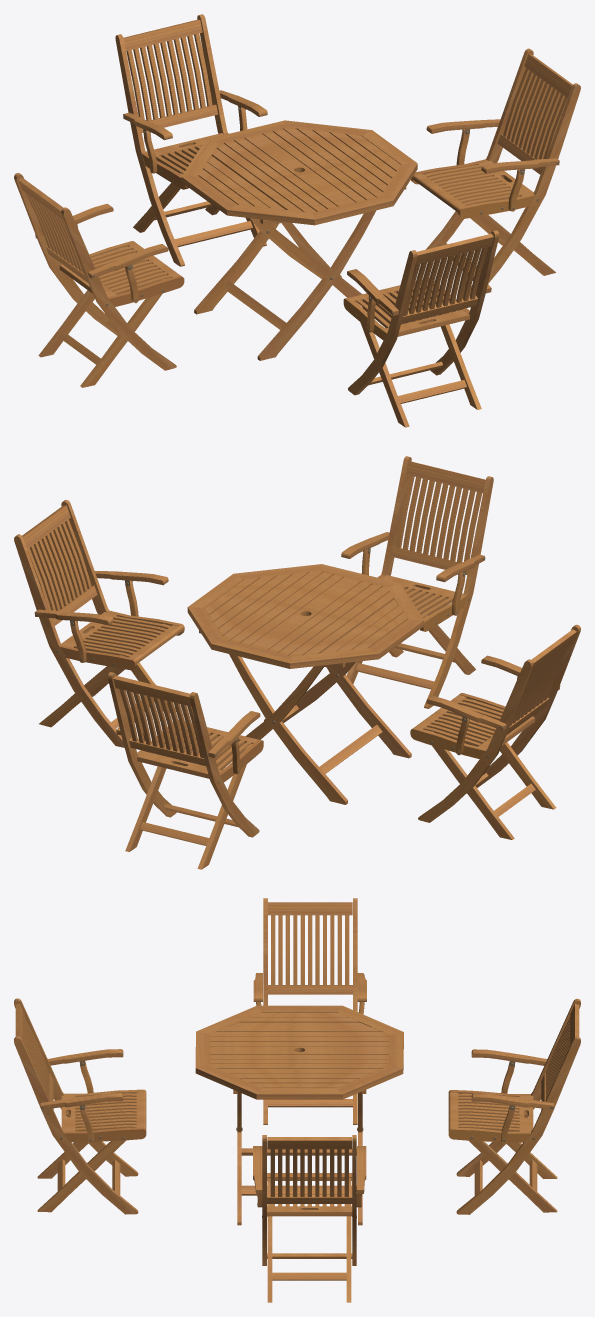
Rendered from marriewoodset3_nocolor.fbx.
3 renders of one model, top to bottom at view 1: azimuth 30°, elevation 25°; view 2: azimuth 150°, elevation 25°; view 3: azimuth 270°, elevation 25°, orthographic. The views are drawn at different scales.
Visible parts, largest first — view 1: marriewoodset3; view 2: marriewoodset3; view 3: marriewoodset3.
Boxes of the visible parts, <box> form: marriewoodset3: <box>14,14,580,427</box>; marriewoodset3: <box>14,456,580,869</box>; marriewoodset3: <box>14,898,580,1302</box>.
Bounding box in the file's own units: 268 × 92 × 268.
4 materials, 4 textured.
